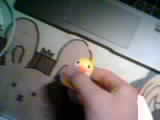duck: (56, 56, 92, 84)
